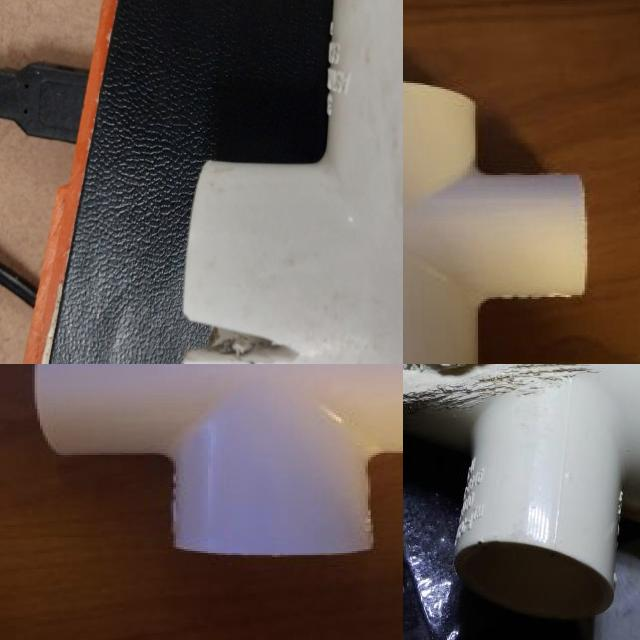Defective: (403, 364, 596, 408), (403, 364, 534, 409), (108, 17, 252, 50), (365, 302, 393, 364)
L Joint: (100, 0, 403, 364)
T Joint: (31, 364, 403, 559), (403, 364, 640, 624), (403, 84, 590, 364)
